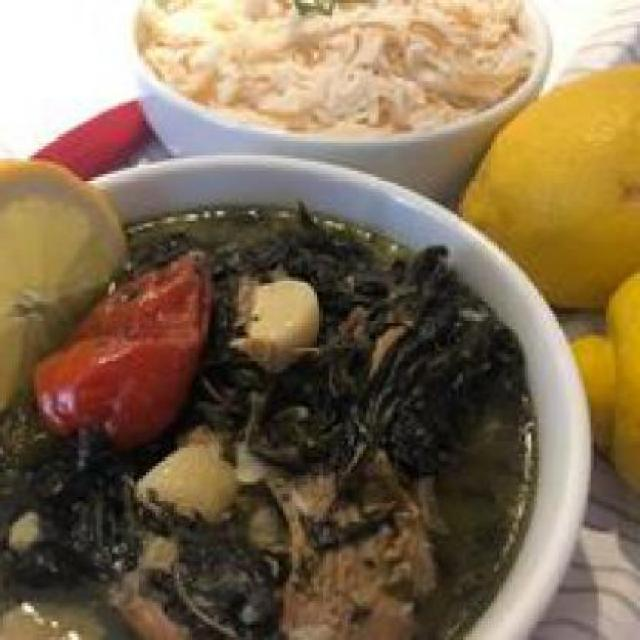molokhia: (6, 196, 519, 630)
